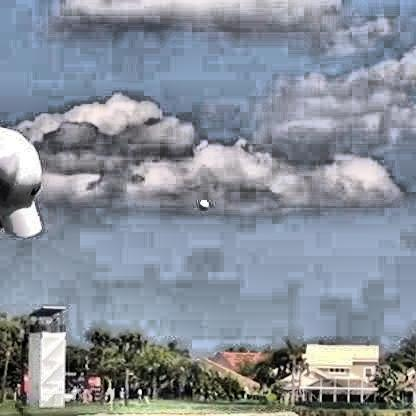golfball: (198, 199, 210, 210)
